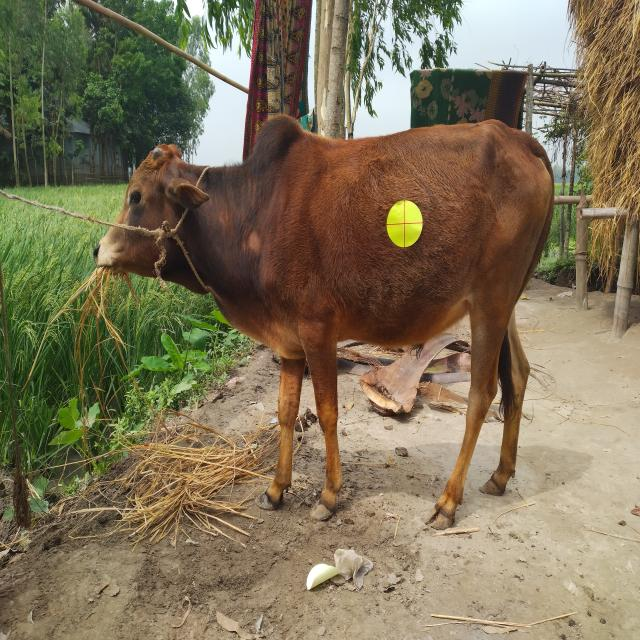badan_sapi: (254, 136, 553, 355)
sapi: (88, 91, 593, 535)
